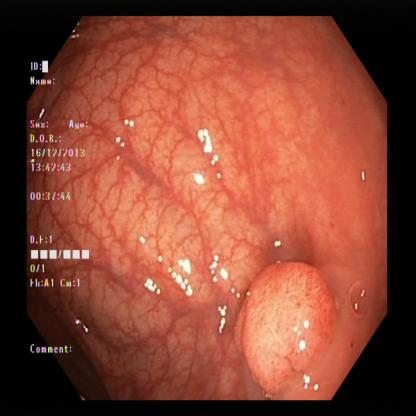Labels: (26, 56, 90, 359)
Polyps: (230, 264, 335, 392)
